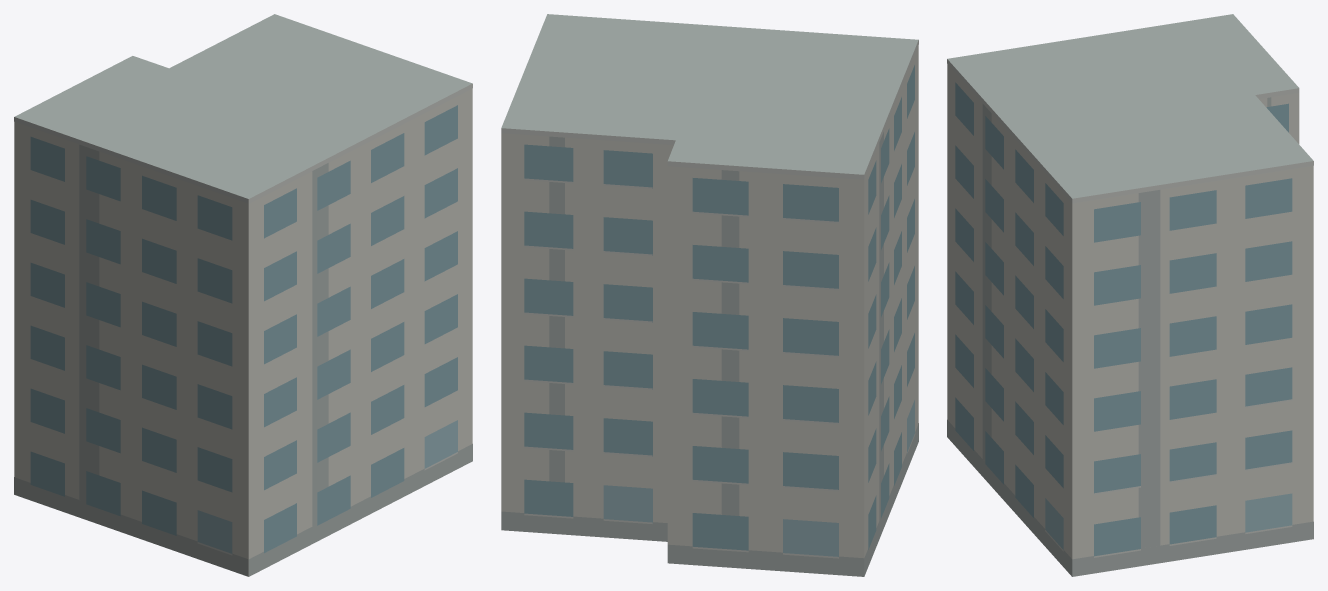
Rendered from survey-upis-32991677.glb.
The picture shows the model from 3 angles, left to right: view 1: azimuth 30°, elevation 25°; view 2: azimuth 150°, elevation 25°; view 3: azimuth 270°, elevation 25°; orthographic projection. The views are drawn at different scales.
Parts seen in each view (by area): view 1: survey-upis-32991677.tmp; view 2: survey-upis-32991677.tmp; view 3: survey-upis-32991677.tmp.
Boxes of the visible parts, box(x1,y1,x2,y2) form: survey-upis-32991677.tmp: box(14, 14, 472, 576); survey-upis-32991677.tmp: box(501, 14, 918, 576); survey-upis-32991677.tmp: box(947, 14, 1313, 576).
Size of the model in its own units: 20.25 by 19.32 by 16.99.
